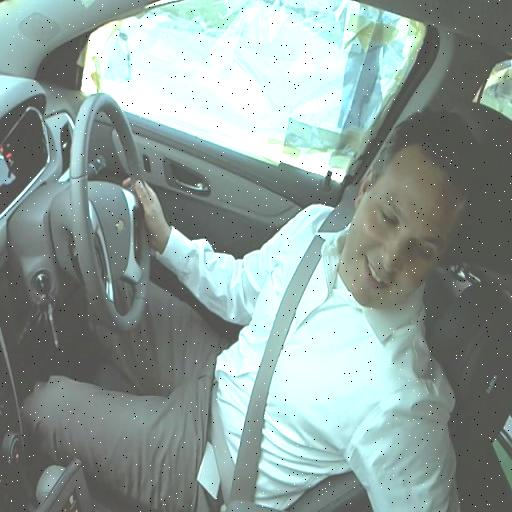turning: (58, 106, 484, 440)
